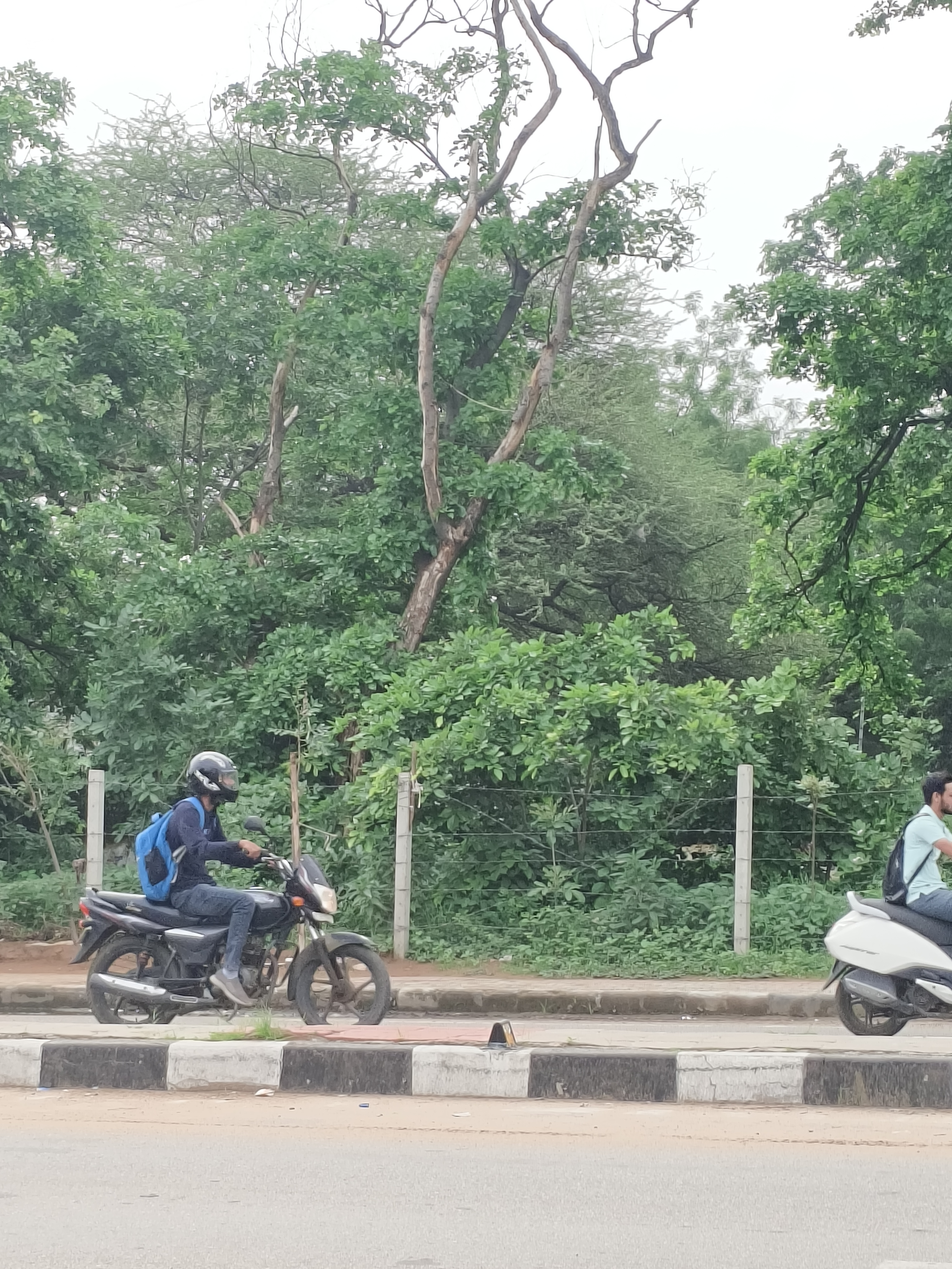BikeWithRider: (60, 742, 403, 1038), (809, 764, 952, 1046)
Helmet: (179, 743, 247, 810)
NoHelmet: (916, 767, 951, 820)
